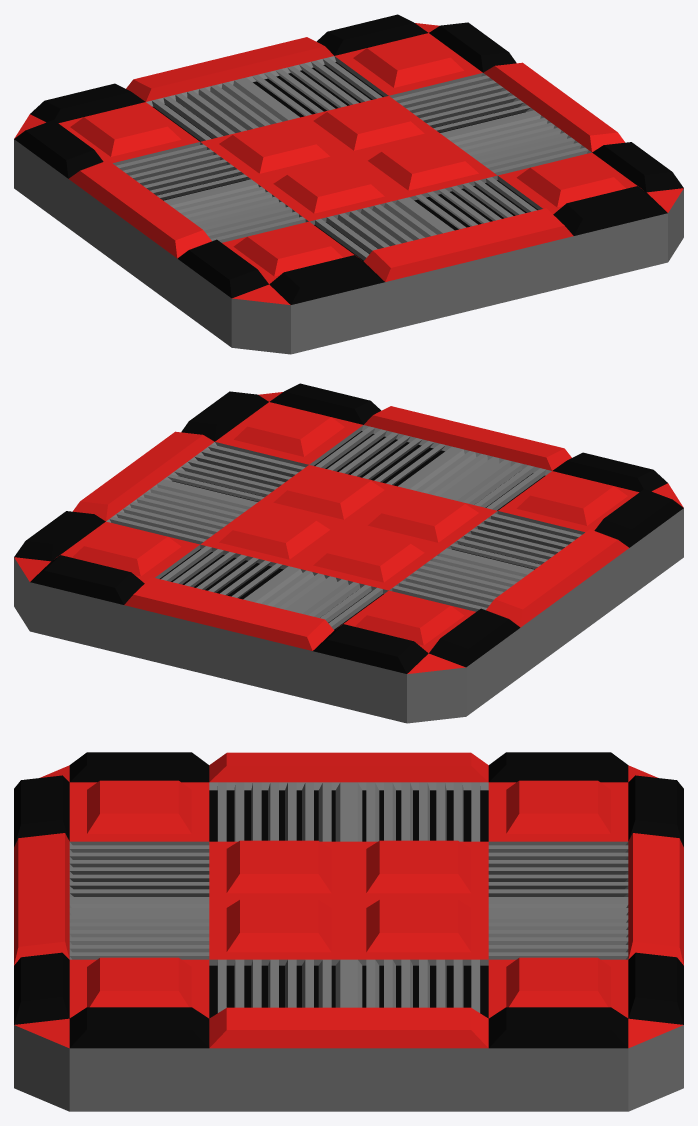
The model's file is PathNode.fbx.
3 views of the same model, one above another, from view 1: azimuth 30°, elevation 25°; view 2: azimuth 150°, elevation 25°; view 3: azimuth 270°, elevation 25° (orthographic). The views are drawn at different scales.
Visible parts, largest first — view 1: PathNode; view 2: PathNode; view 3: PathNode.
Part boxes in pixels (left/top/right/bottom): PathNode: left=14, top=14, right=683, bottom=354; PathNode: left=14, top=383, right=683, bottom=723; PathNode: left=14, top=752, right=683, bottom=1111.
Bounding box in the file's own units: 200 × 29.9 × 200.
